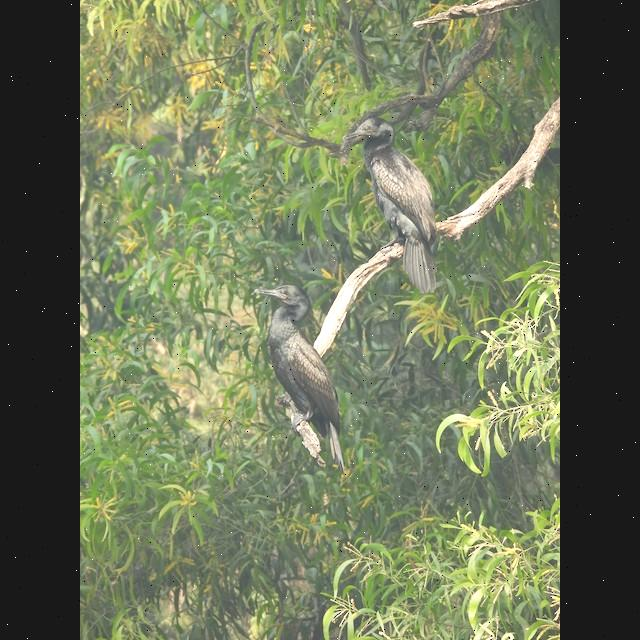cormorant: (254, 270, 354, 470), (343, 112, 451, 294)
